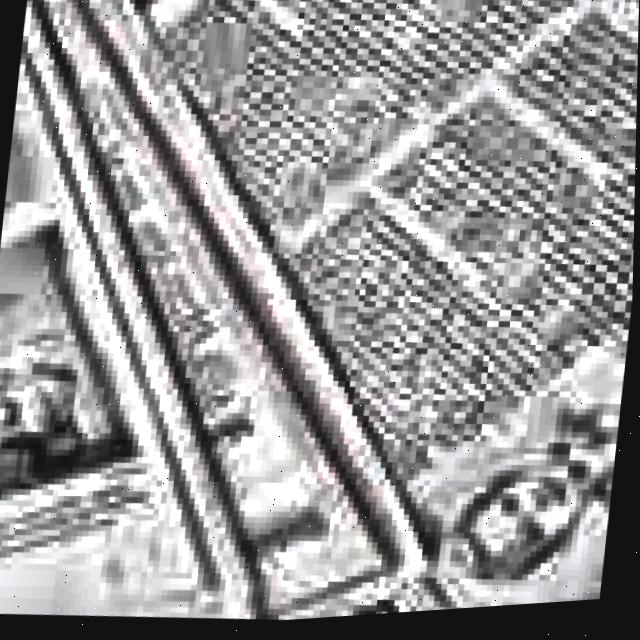paper: (141, 0, 639, 622)
